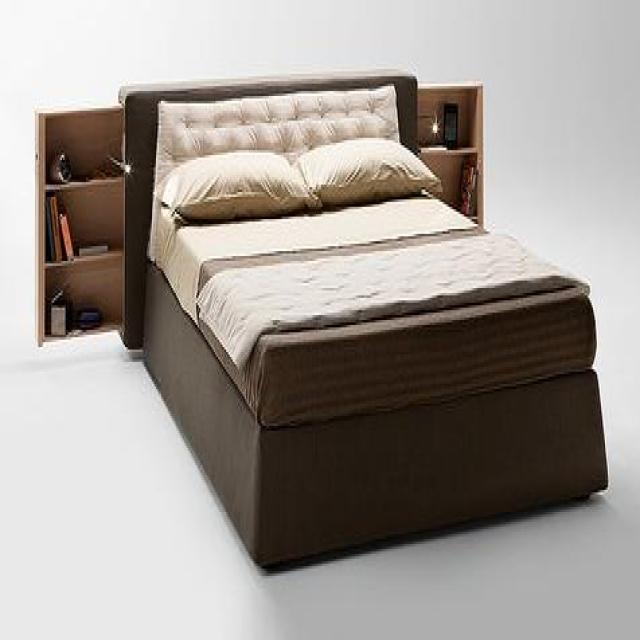bed: (118, 71, 608, 571)
